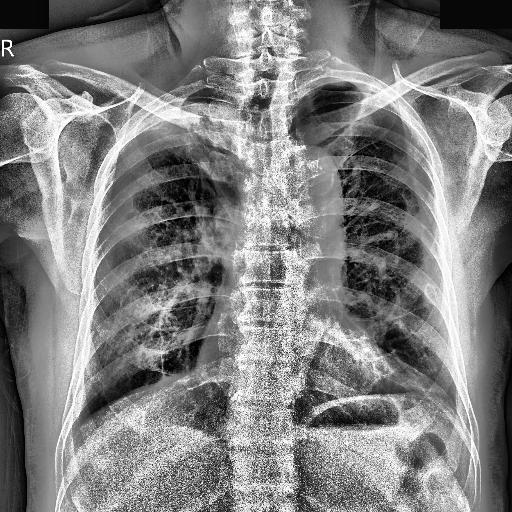0- Aortic enlargement: (279, 144, 343, 230), (277, 142, 340, 217), (288, 142, 336, 196)
1- Atelectasis: (136, 90, 248, 132), (138, 94, 230, 130)
11- Pleural thickening: (136, 90, 248, 132), (138, 92, 238, 130)
13- Pulmonary fibrosis: (159, 116, 234, 190), (173, 120, 222, 183), (178, 131, 224, 186), (159, 346, 165, 382)
5- ILD: (95, 280, 176, 388), (98, 288, 154, 384)
9- Other lesion: (422, 282, 438, 304), (422, 284, 438, 306), (424, 283, 438, 306)
